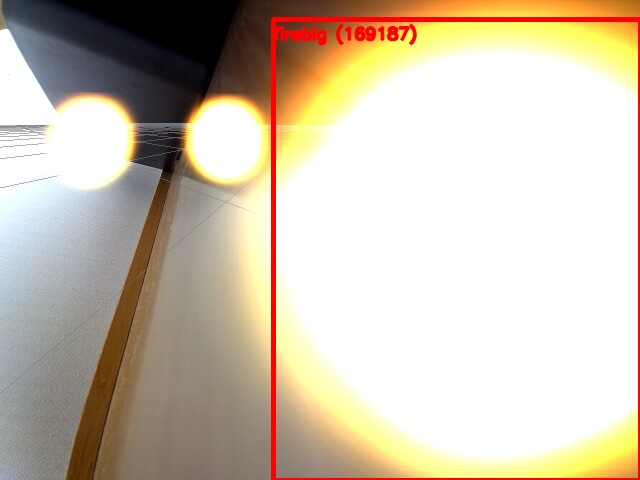firebig: (273, 19, 640, 480)
